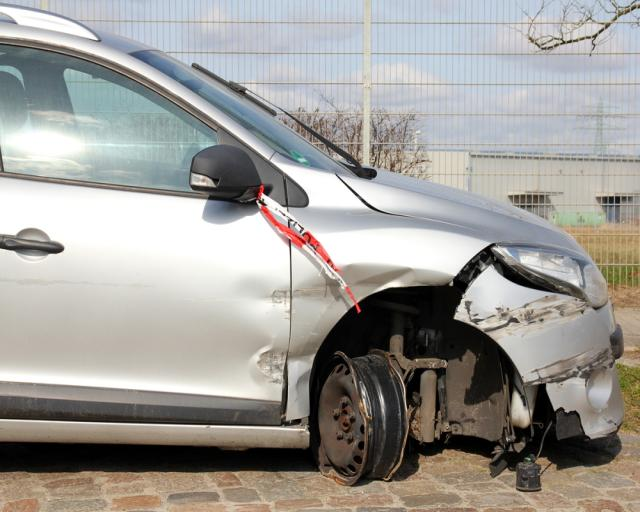dent: (289, 274, 355, 402), (234, 272, 294, 389), (338, 265, 425, 301)
scratch: (453, 296, 589, 343), (524, 347, 615, 386)
